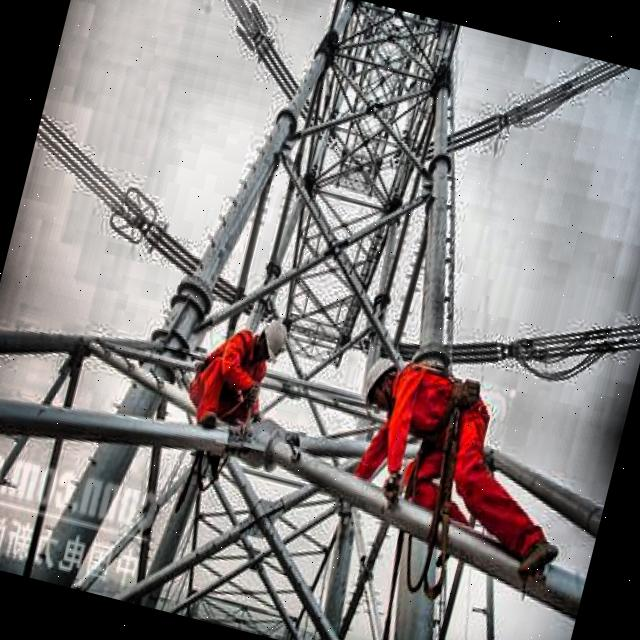helmet: (358, 352, 410, 416), (249, 314, 294, 366)
